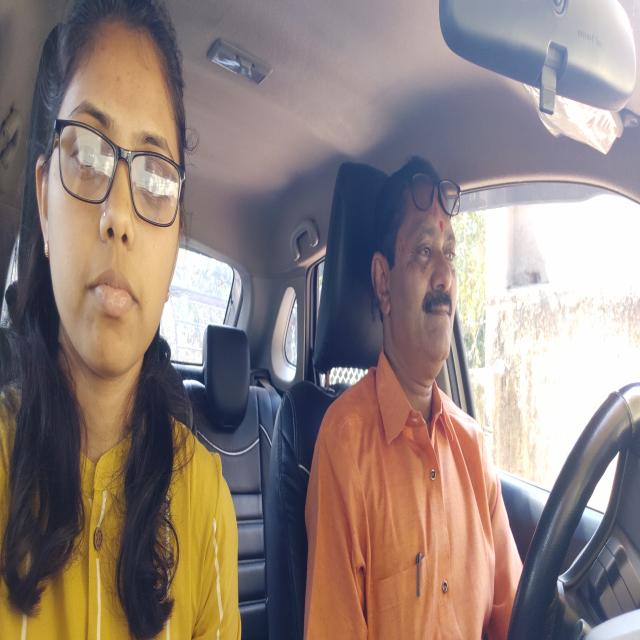person: (30, 17, 187, 376), (372, 167, 457, 360)
